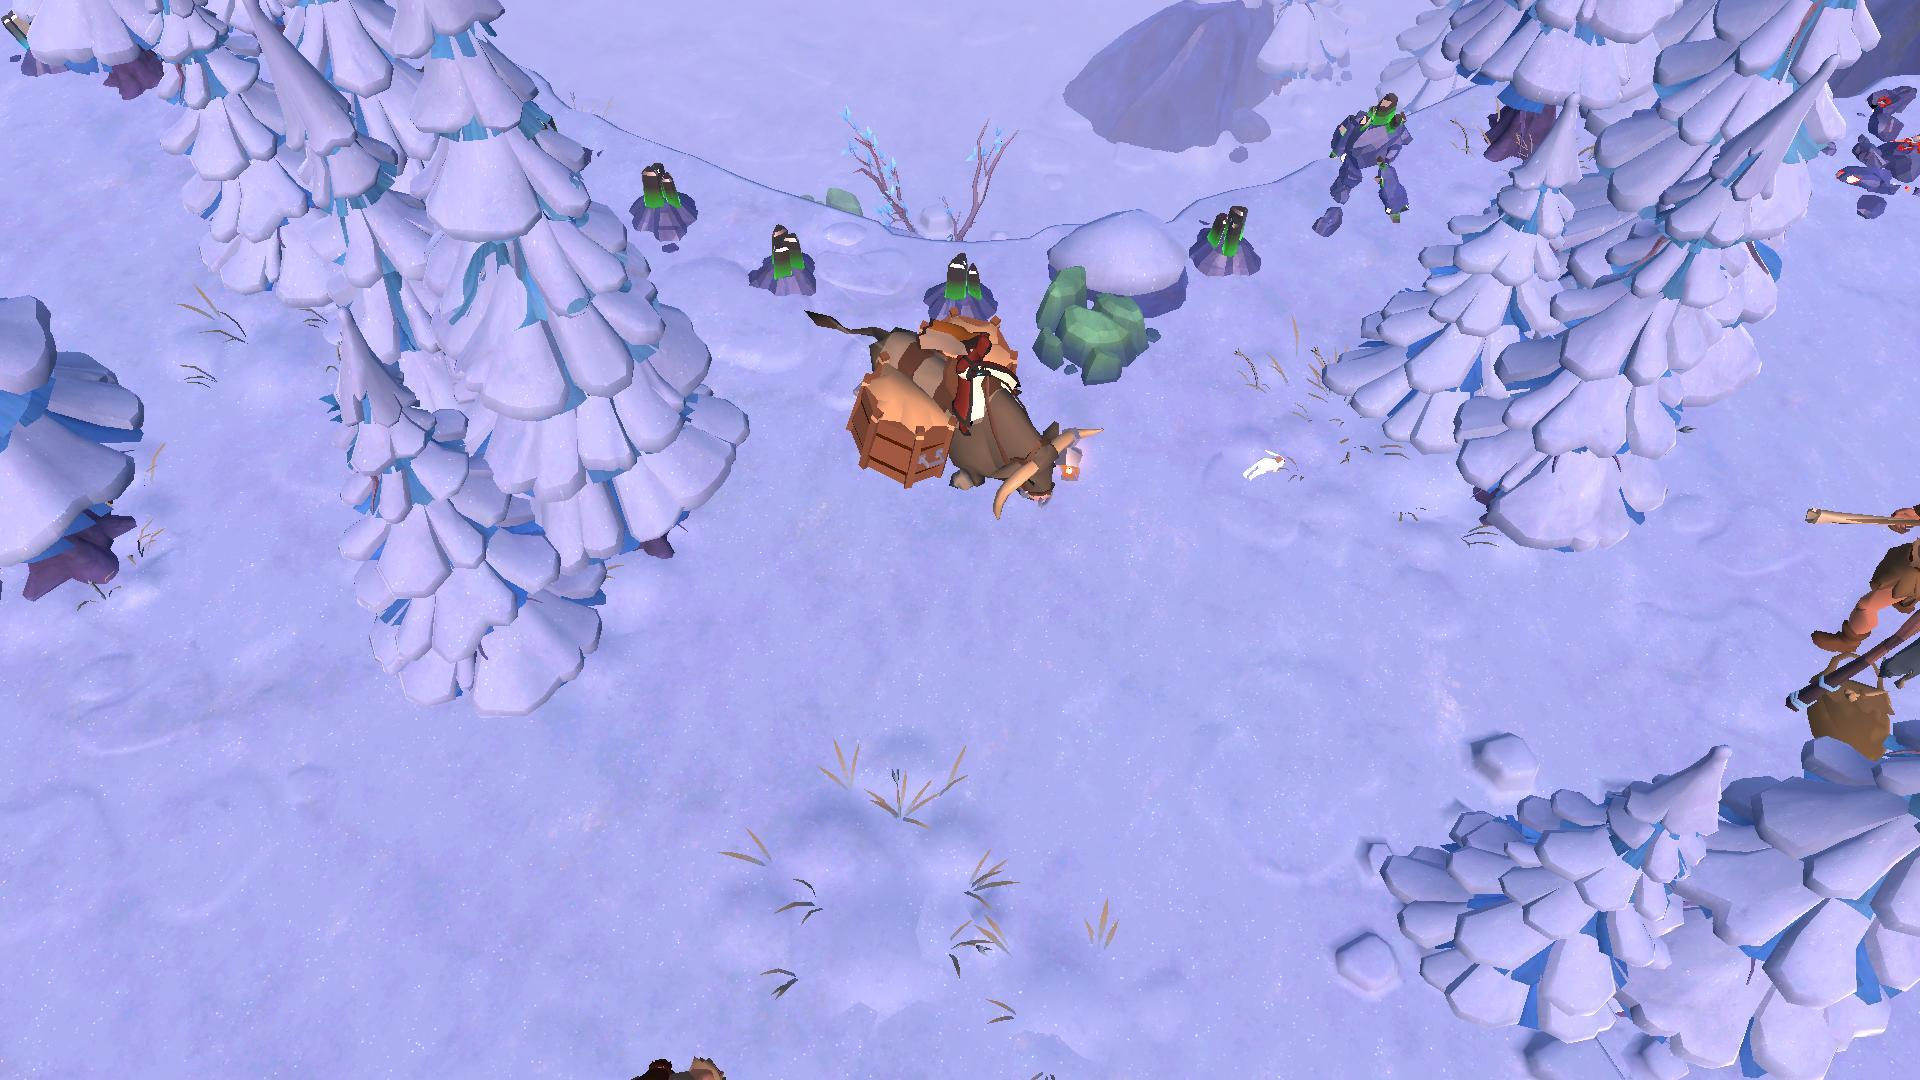enemy_factionKeeper: (1816, 483, 1920, 657)
ore_t3: (760, 216, 804, 284), (636, 154, 682, 211), (943, 247, 989, 302), (1209, 202, 1247, 260)
rock_t3: (1034, 260, 1155, 382)
